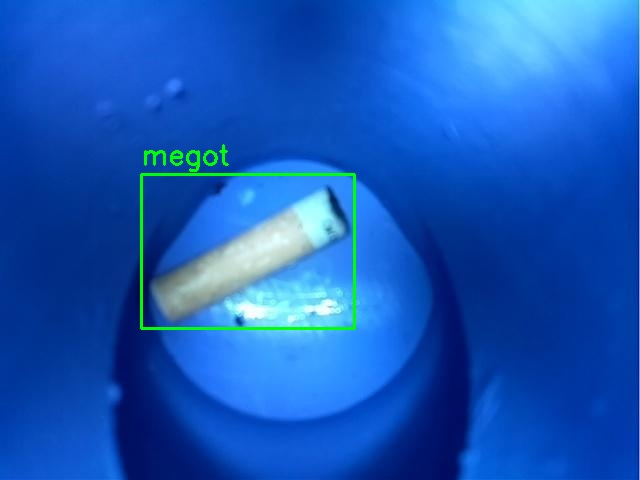megot: (141, 174, 354, 328)
